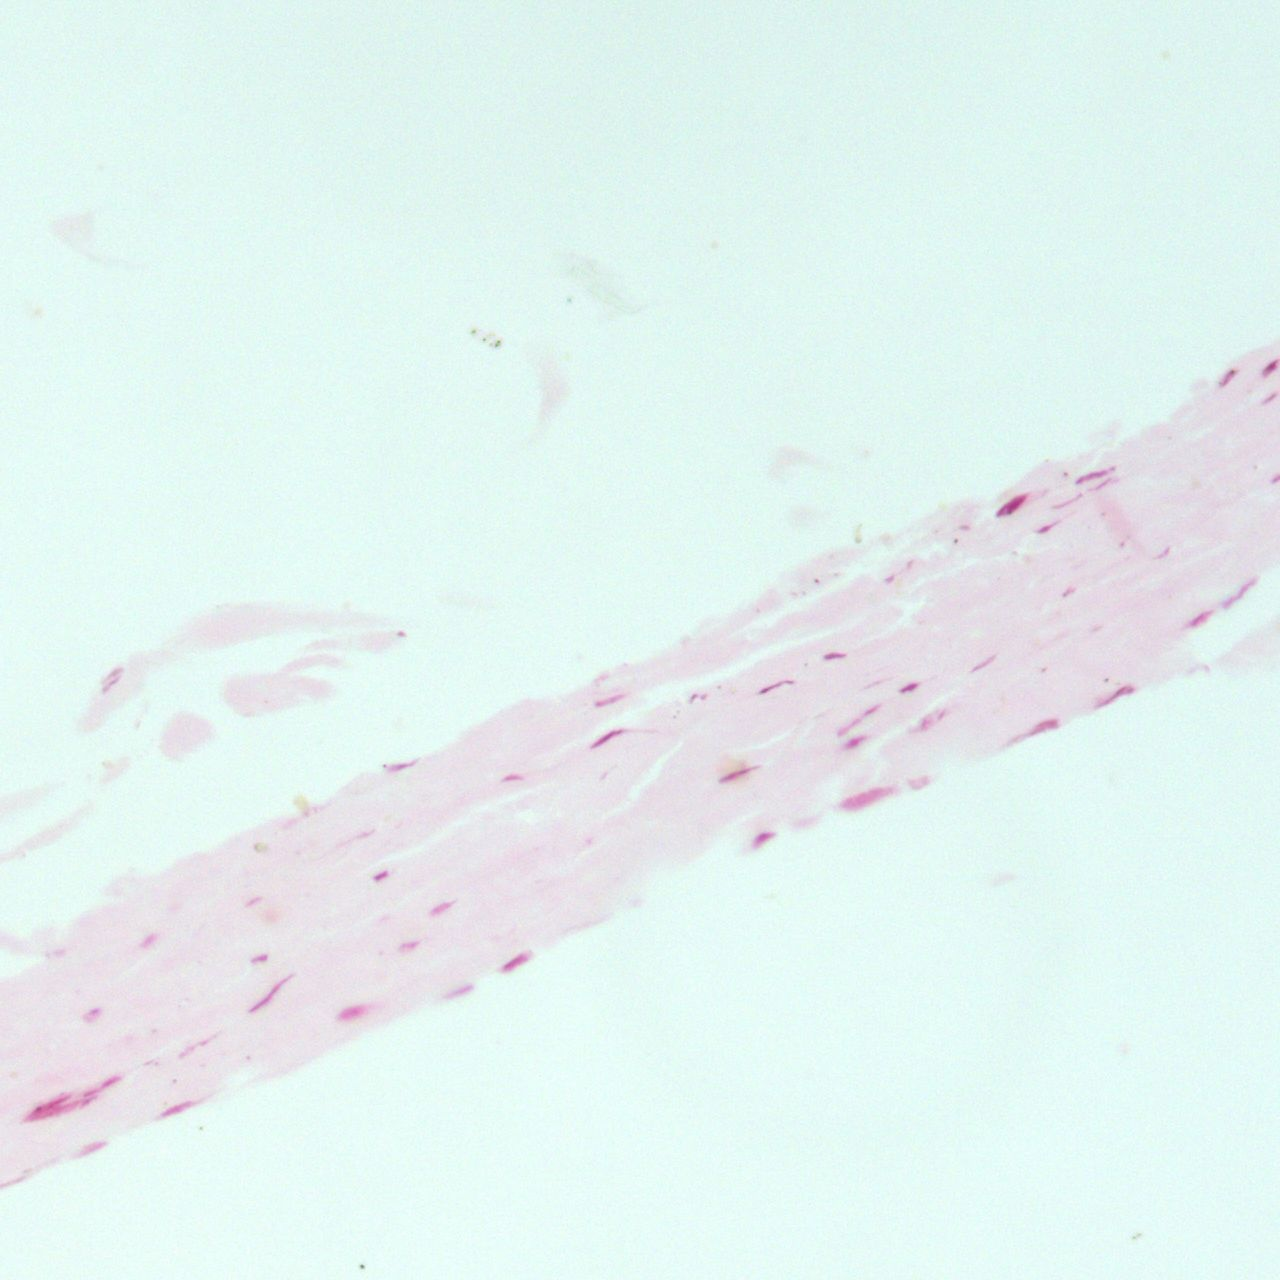dust: (359, 1264, 366, 1269), (1040, 667, 1048, 672), (1102, 678, 1109, 682), (162, 1099, 166, 1105), (496, 339, 501, 343), (198, 1126, 204, 1130), (495, 343, 499, 347), (482, 338, 486, 341), (471, 329, 475, 334)
nucleus-AC: (244, 969, 301, 1015), (836, 781, 894, 815), (1217, 574, 1262, 612), (22, 1098, 80, 1125), (994, 486, 1033, 522), (1094, 682, 1135, 712), (716, 761, 761, 787), (498, 947, 533, 978), (913, 704, 949, 734), (1023, 715, 1061, 743), (28, 1092, 72, 1116), (587, 726, 625, 753), (334, 1000, 374, 1024), (159, 1097, 199, 1119), (967, 652, 998, 678), (441, 981, 476, 1003), (75, 1138, 109, 1160), (1047, 492, 1084, 512), (1183, 607, 1214, 631), (755, 678, 796, 695), (1073, 467, 1114, 484), (427, 897, 457, 920), (745, 828, 775, 849), (591, 692, 624, 710), (384, 756, 418, 774), (906, 772, 934, 794), (836, 717, 862, 737), (1032, 519, 1058, 538), (137, 930, 159, 952), (1088, 476, 1116, 493), (98, 665, 122, 685), (1258, 358, 1280, 377), (860, 701, 885, 719), (897, 680, 922, 696), (100, 1073, 124, 1089), (100, 675, 123, 692), (1218, 368, 1238, 387), (1155, 543, 1173, 561), (843, 734, 864, 750), (1058, 583, 1077, 600), (243, 894, 265, 908), (1259, 390, 1278, 406), (248, 951, 270, 964), (79, 1095, 97, 1109), (372, 869, 390, 883), (395, 940, 420, 949), (82, 1085, 98, 1098), (821, 652, 846, 660), (499, 772, 522, 781), (84, 1007, 100, 1017), (689, 693, 707, 701), (1269, 471, 1279, 485), (883, 576, 896, 583), (956, 524, 971, 530), (396, 629, 407, 636)
